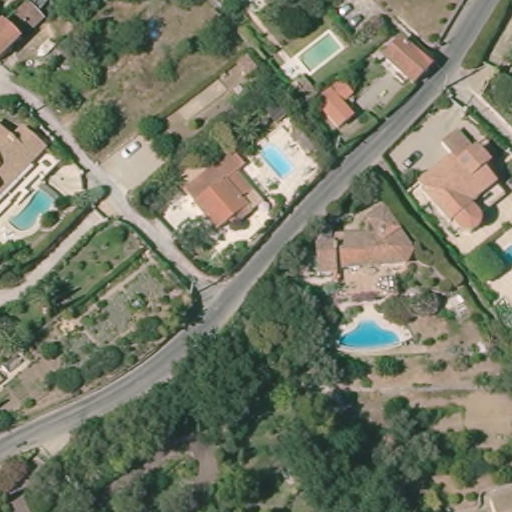pool: (334, 316, 403, 354), (295, 28, 345, 76), (13, 187, 56, 233), (258, 142, 298, 184)
